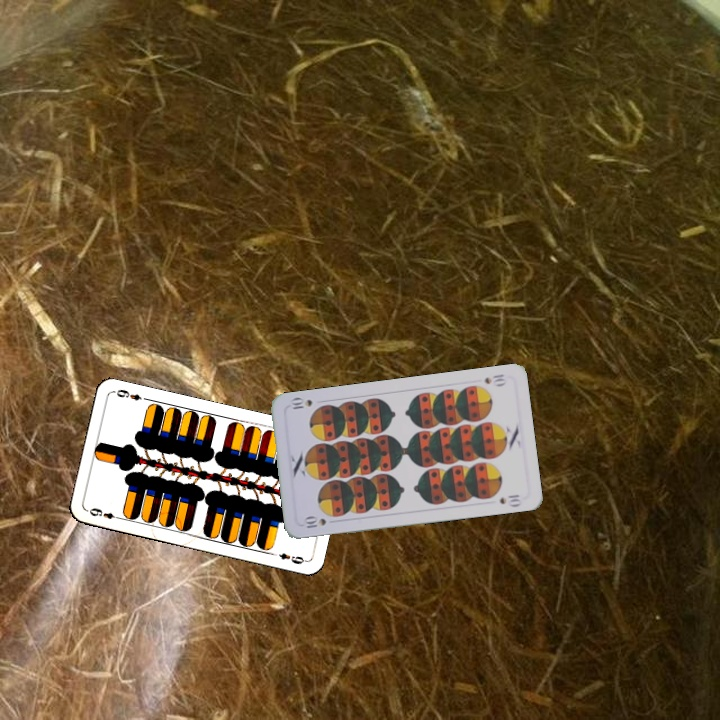E9: (85, 504, 124, 522)
S10: (480, 370, 508, 389), (300, 513, 329, 531)
